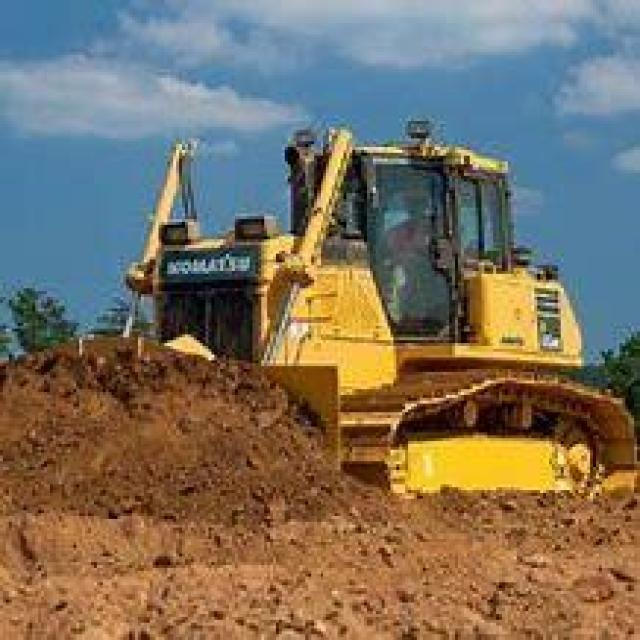buldozerpayloadergrader: (50, 101, 637, 530)
